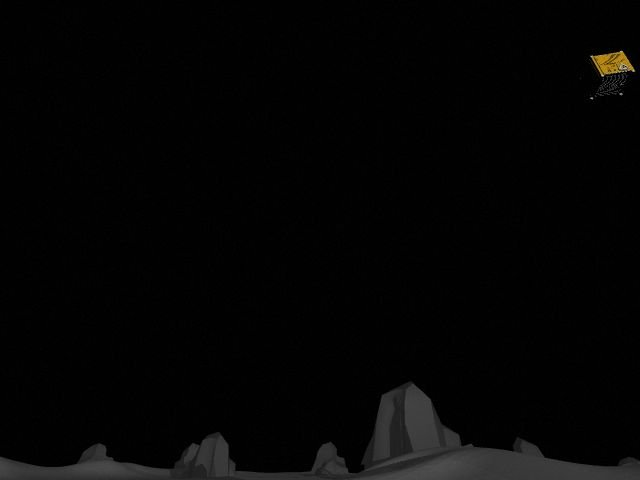cubesat: (583, 46, 640, 103)
